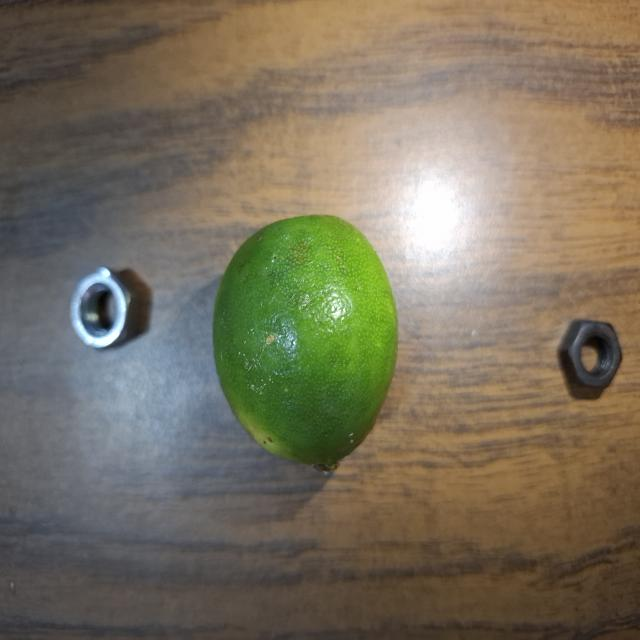limon: (205, 207, 401, 480)
milimetrico: (554, 317, 630, 395)
tuerca: (60, 259, 137, 369)
